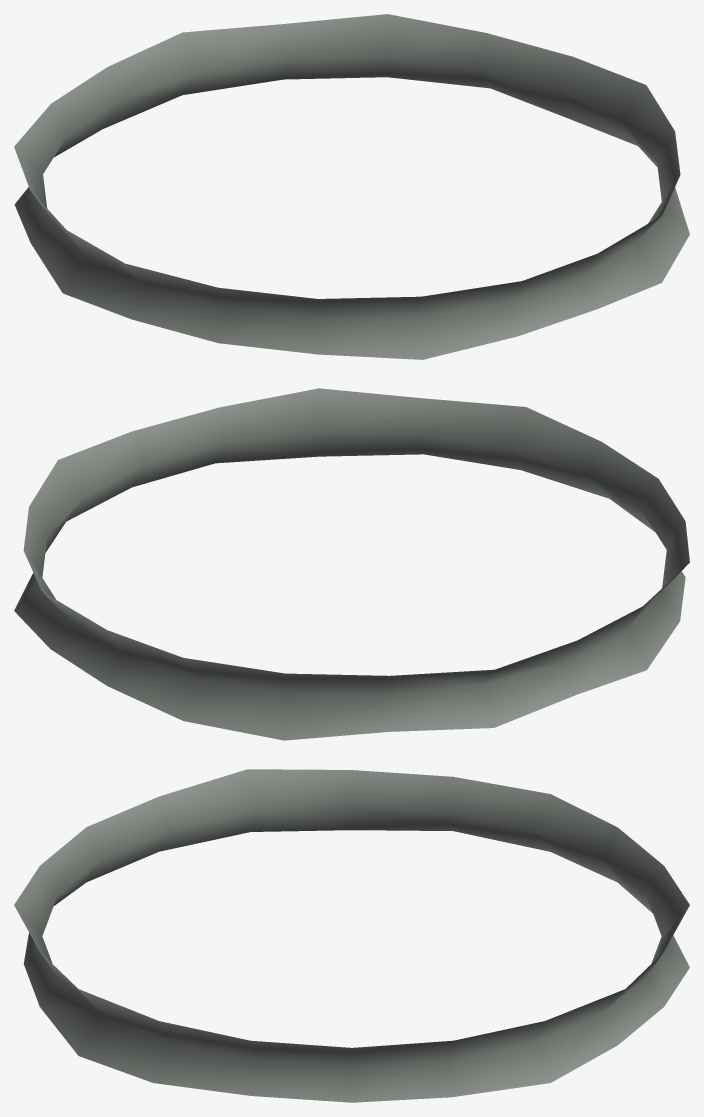
The model's file is ReoundCyl.fbx.
3 views of the same model, one above another, from view 1: azimuth 30°, elevation 25°; view 2: azimuth 150°, elevation 25°; view 3: azimuth 270°, elevation 25° (orthographic).
Parts seen in each view (by area): view 1: RoundCyl; view 2: RoundCyl; view 3: RoundCyl.
Part boxes in pixels (x1=…): RoundCyl: x1=14, y1=14, x2=689, y2=359; RoundCyl: x1=14, y1=388, x2=689, y2=740; RoundCyl: x1=14, y1=769, x2=689, y2=1102.
Size of the model in its own units: 102 by 11.3 by 103.
